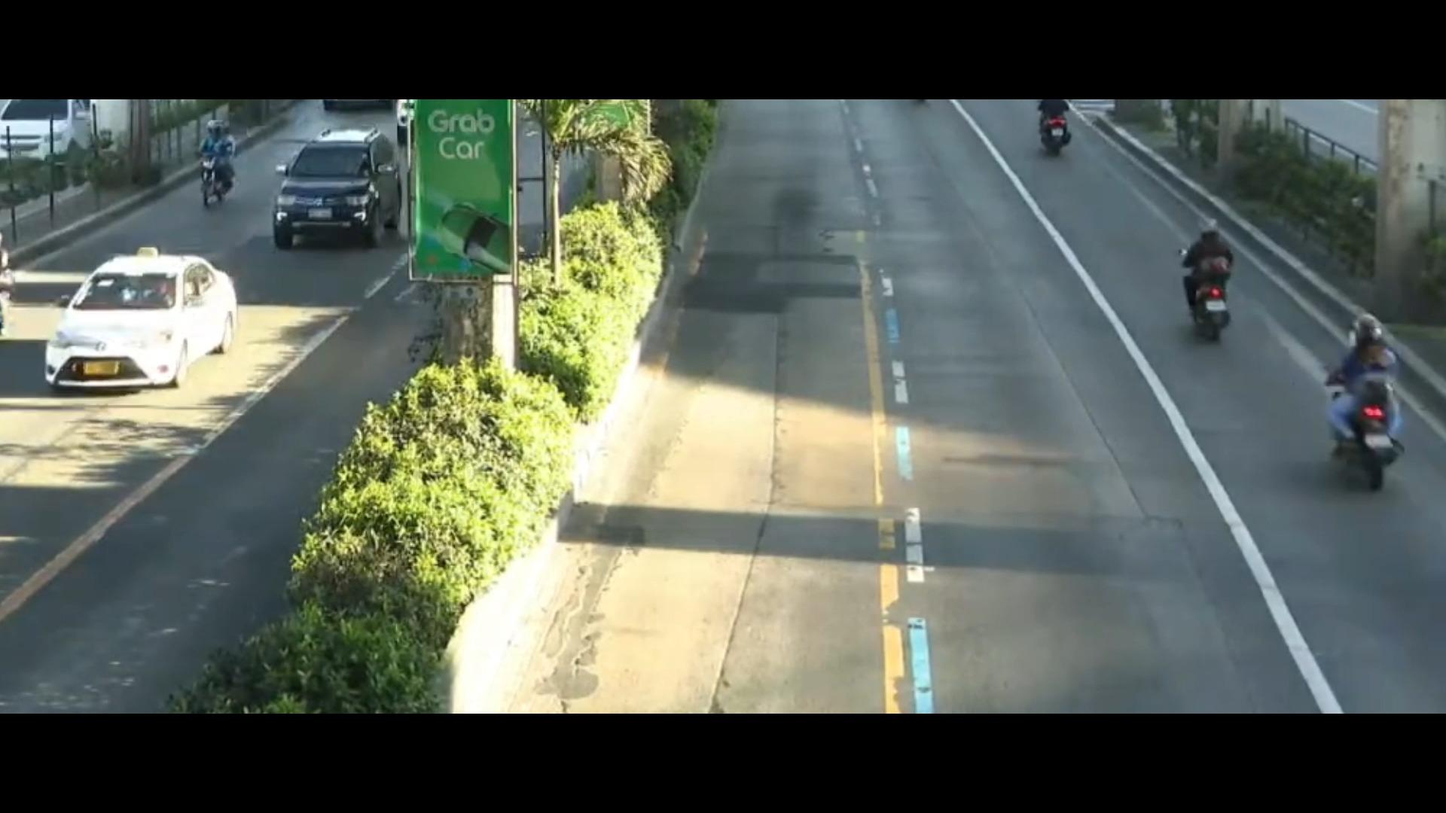Motorcycle: (1294, 294, 1439, 503), (1125, 196, 1262, 371), (171, 111, 241, 196), (1027, 104, 1085, 174)
SUV: (247, 119, 403, 250)
Sedan: (29, 249, 263, 404)
